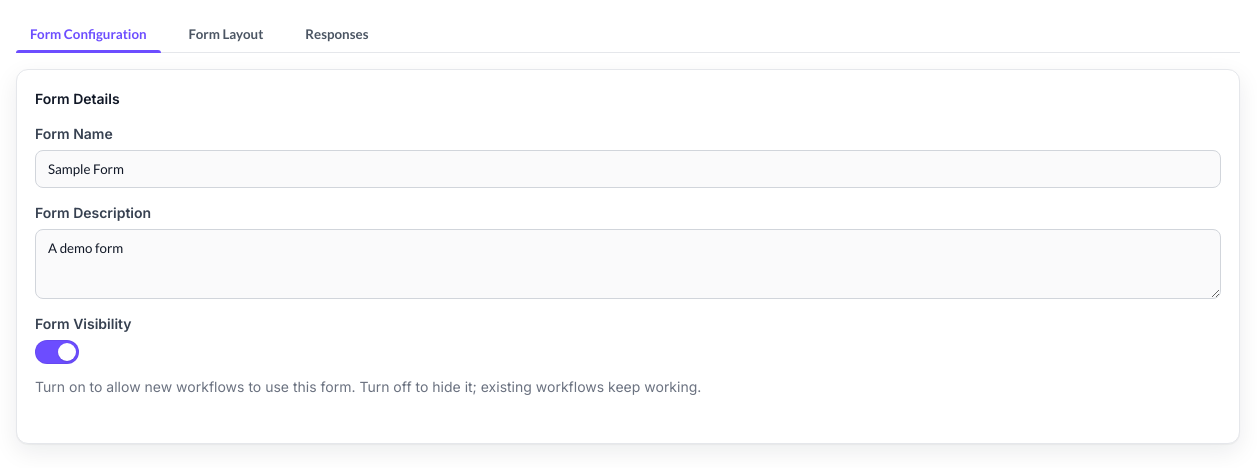
Test: ViewForm page › resolves usernames from API
Expected: the text "Form Details" is shown, [35,90,120,107]
# Switch to responses
Step 1. Click the tab "Responses" → [337, 34], box [291,16,382,52]
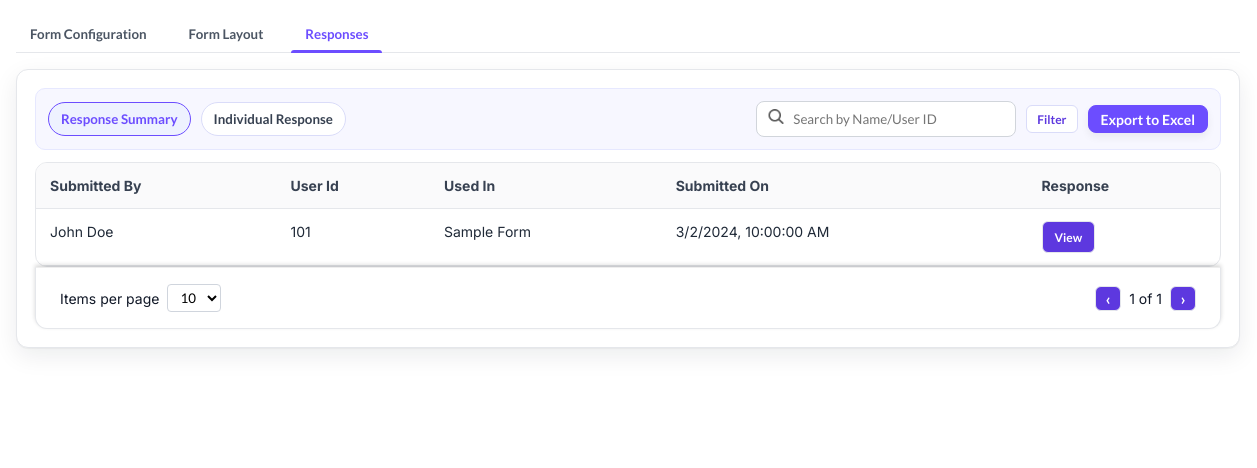
Result: the text "John Doe" is shown at [36,209,276,266]
